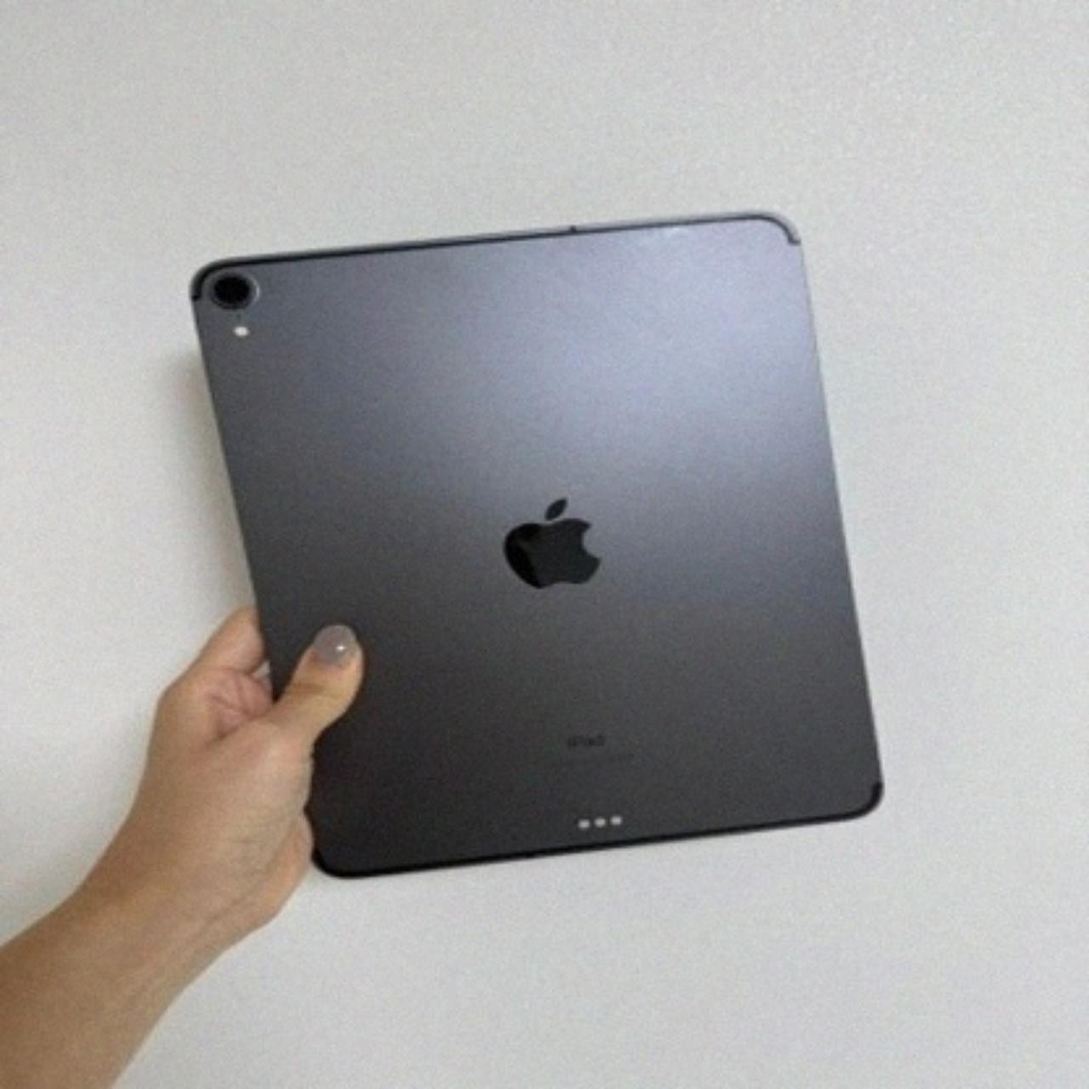Tablet_PC: (176, 202, 898, 908)
